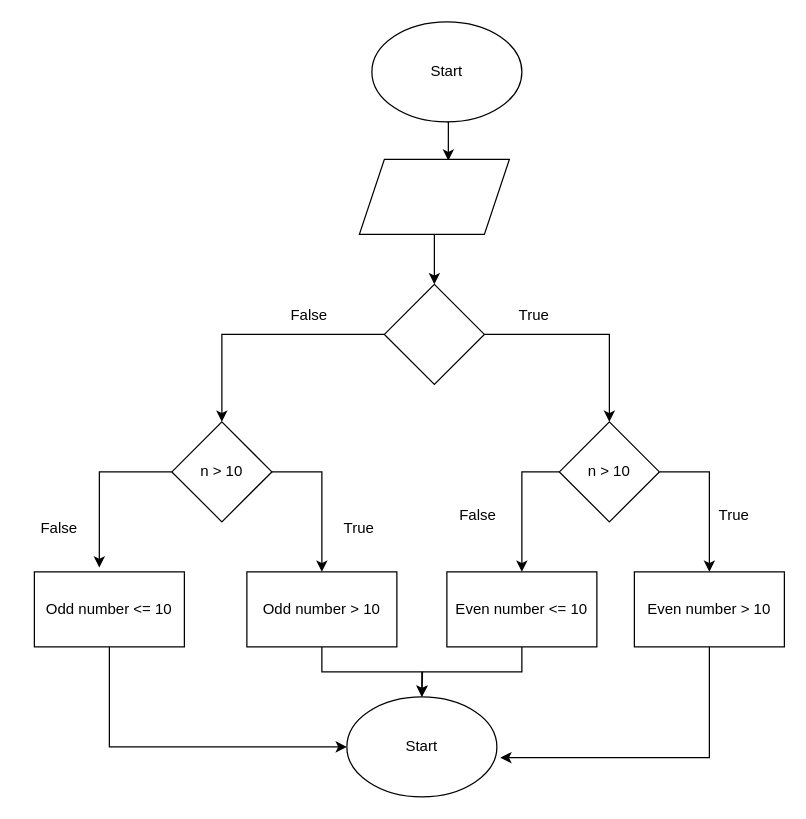
This 806x819 diagram has some shape labels left out. Each missing label, with the centre of its shape:
"Input (n)" belongs at (433,196).
"n % 2 = 0" belongs at (433,333).
